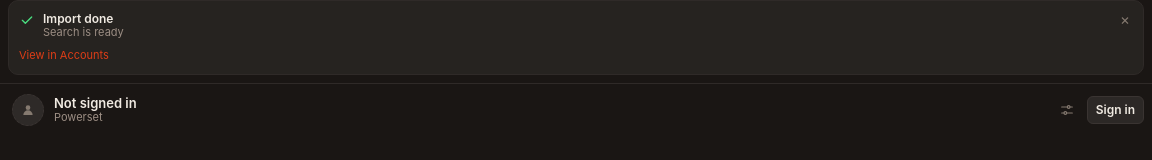
Scenario: reports the real native login failure
The image size is (1152, 160).
Click the button "Sign in": [1115, 110] box [1087,96,1144,124]
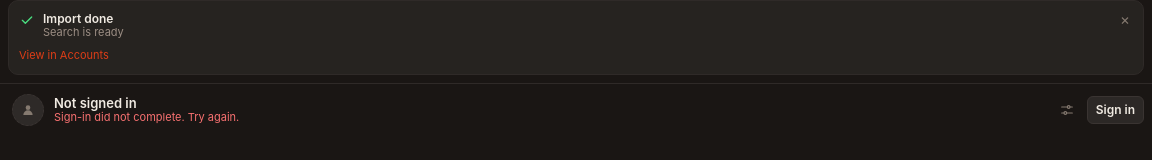
Expected: the message reads "Sign-in did not complete. Try again.", [54,110,239,124]
